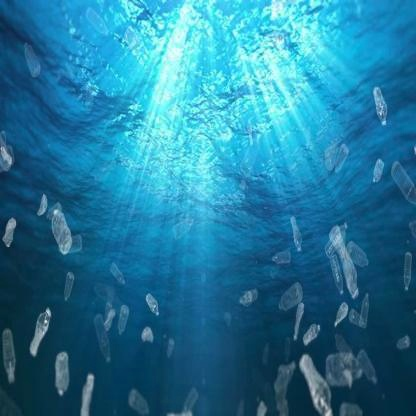pbottle: (295, 357, 331, 416), (328, 335, 363, 390), (15, 32, 50, 85), (48, 208, 82, 257), (97, 277, 129, 328), (26, 303, 52, 359), (392, 156, 416, 212), (274, 358, 297, 416), (370, 86, 395, 134), (317, 143, 355, 172), (77, 366, 99, 416), (0, 319, 16, 387), (274, 277, 305, 312), (79, 5, 109, 38), (351, 343, 377, 380), (119, 22, 144, 60), (88, 318, 110, 360), (286, 218, 307, 262), (53, 347, 70, 400), (172, 387, 202, 416), (401, 242, 415, 302), (346, 236, 368, 274), (1, 130, 16, 183), (58, 268, 78, 303), (323, 227, 343, 262), (241, 279, 260, 314), (30, 188, 50, 221), (126, 383, 148, 413), (266, 244, 292, 269), (138, 288, 160, 317), (82, 81, 99, 117), (2, 214, 17, 249), (338, 398, 367, 416), (303, 316, 319, 348), (326, 255, 340, 290), (113, 261, 126, 296), (294, 301, 303, 346), (167, 338, 180, 368), (361, 299, 374, 328), (372, 162, 383, 188), (399, 328, 410, 353), (140, 324, 155, 342), (265, 34, 286, 46), (350, 311, 365, 327), (405, 223, 416, 241), (338, 304, 346, 326), (254, 395, 266, 408)
